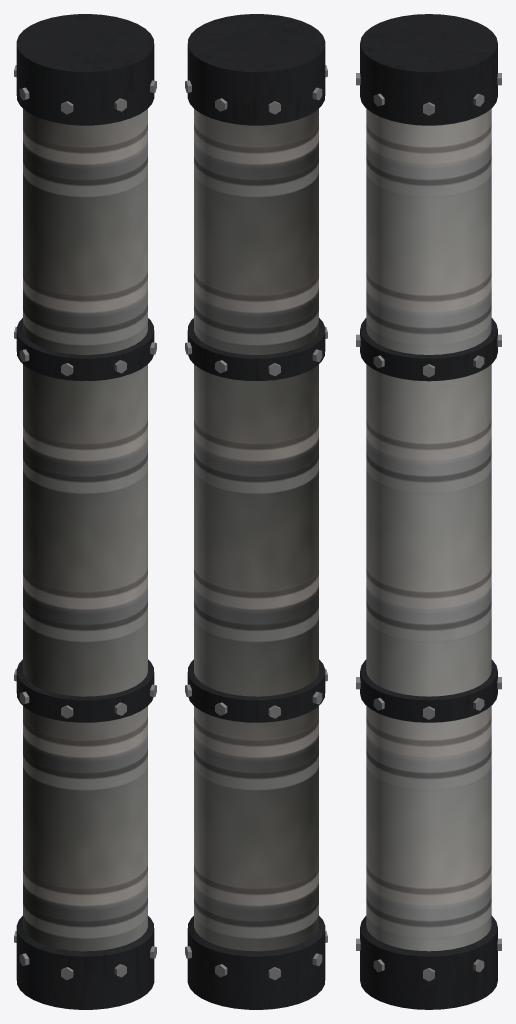
Rendered from metalPipingStraight.fbx.
3 views of the same model, side by side, from view 1: azimuth 30°, elevation 25°; view 2: azimuth 150°, elevation 25°; view 3: azimuth 270°, elevation 25° (orthographic).
Visible parts, largest first — view 1: Cylinder; view 2: Cylinder; view 3: Cylinder.
Part boxes in pixels (x1,y1,x2,y2): Cylinder: [14, 14, 156, 1009]; Cylinder: [185, 14, 327, 1009]; Cylinder: [356, 14, 501, 1009].
Bounding box in the file's own units: 232 × 1648 × 232.
